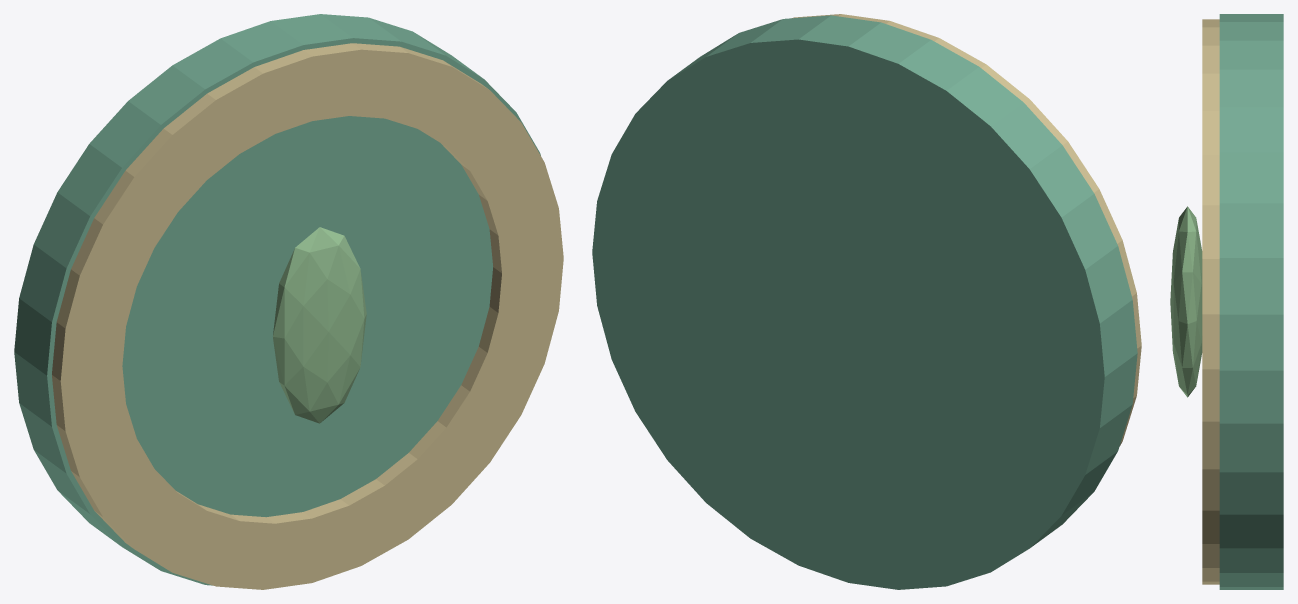
File: product-identity-token-high.glb
3 views of the same model, side by side, from view 1: azimuth 30°, elevation 25°; view 2: azimuth 150°, elevation 25°; view 3: azimuth 270°, elevation 25° (orthographic). The views are drawn at different scales.
Visible parts, largest first — view 1: identity-disc, identity-ring, leaf-mark; view 2: identity-disc, identity-ring; view 3: identity-disc, identity-ring, leaf-mark.
Boxes of the visible parts, bbox=[...] form: identity-disc: bbox=[14, 14, 540, 585]; identity-ring: bbox=[52, 43, 563, 589]; leaf-mark: bbox=[273, 227, 366, 423]; identity-disc: bbox=[592, 15, 1137, 589]; identity-ring: bbox=[792, 14, 1141, 446]; identity-disc: bbox=[1219, 14, 1283, 589]; identity-ring: bbox=[1202, 19, 1219, 584]; leaf-mark: bbox=[1170, 206, 1202, 397].
Size of the model in its own units: 1.08 by 1.08 by 0.2124.
